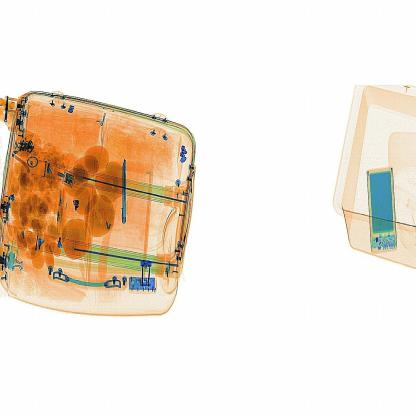pliers: (113, 156, 136, 234)
